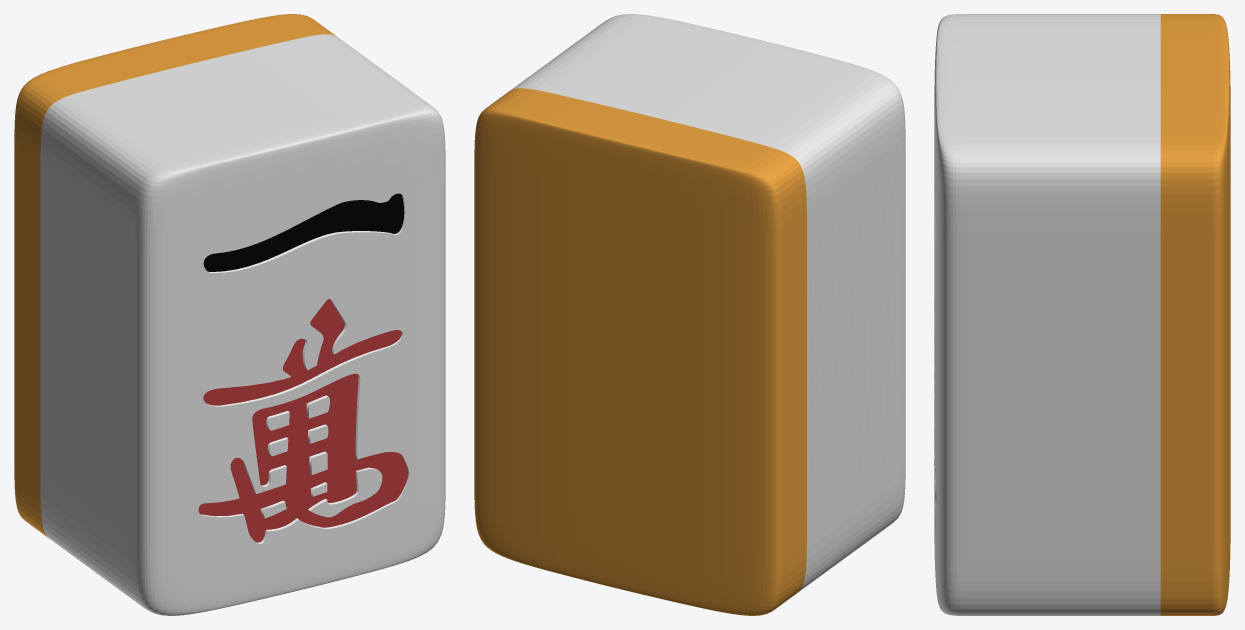
File: Man1.fbx
3 renders of one model, left to right at view 1: azimuth 30°, elevation 25°; view 2: azimuth 150°, elevation 25°; view 3: azimuth 270°, elevation 25°, orthographic. The views are drawn at different scales.
Visible parts, largest first — view 1: Man1; view 2: Man1; view 3: Man1.
Boxes of the visible parts, left/top/right/bottom form: Man1: left=14, top=14, right=445, bottom=615; Man1: left=474, top=14, right=905, bottom=615; Man1: left=934, top=14, right=1230, bottom=615.
Size of the model in its own units: 2 by 2.8 by 1.59.
